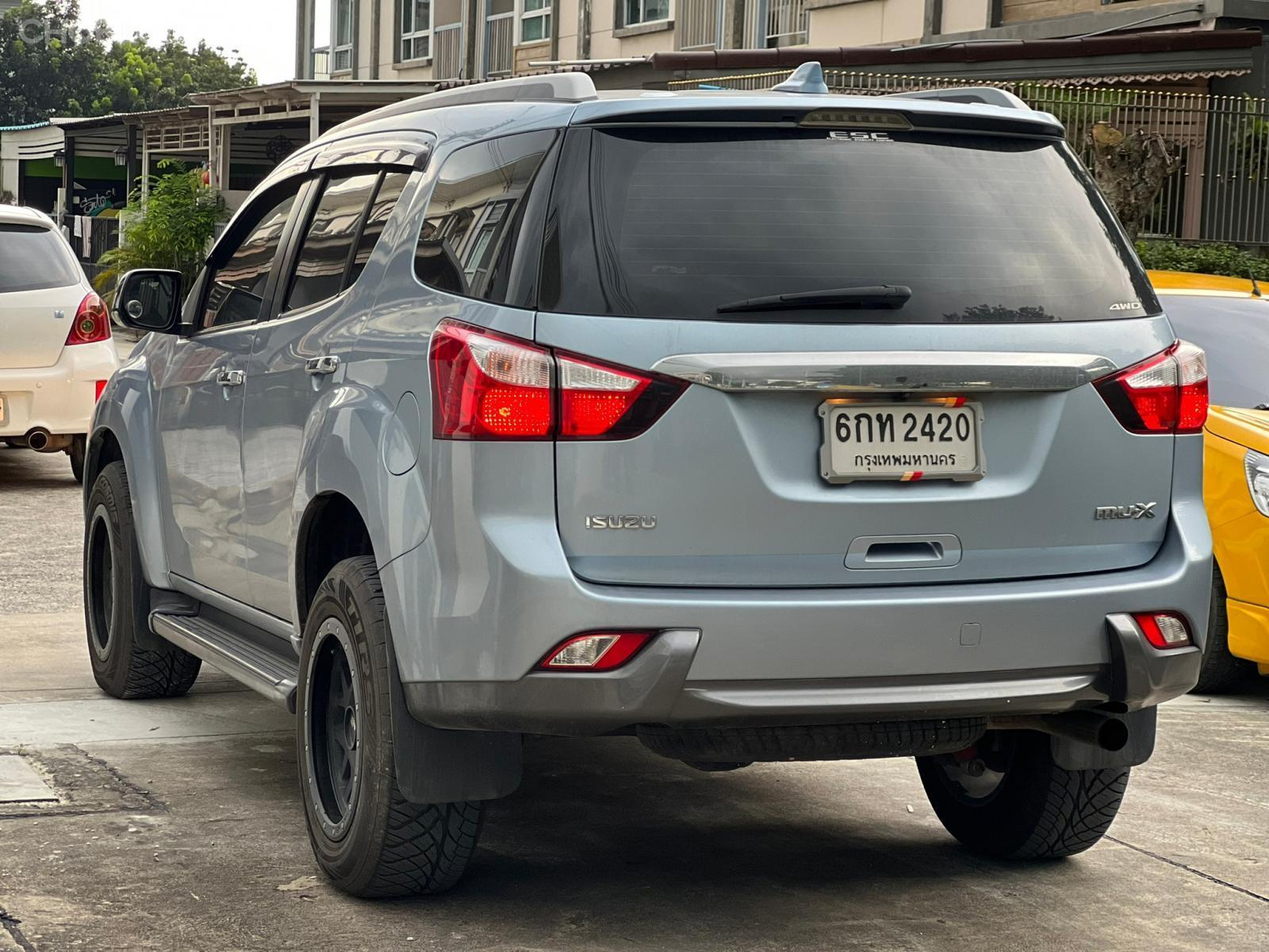license-plate: (813, 391, 992, 486)
